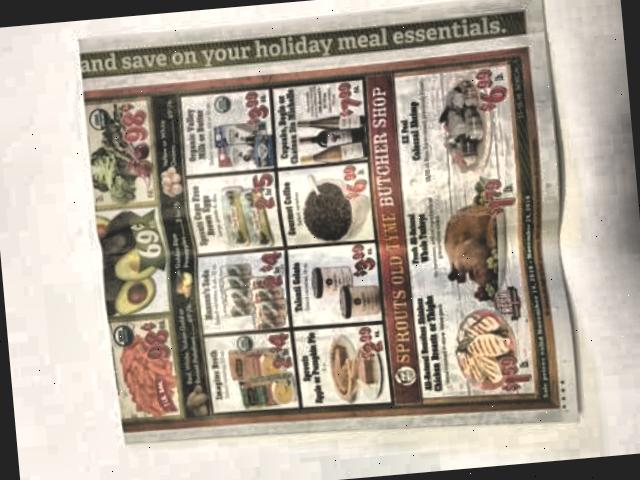Paper: (76, 0, 589, 466)
